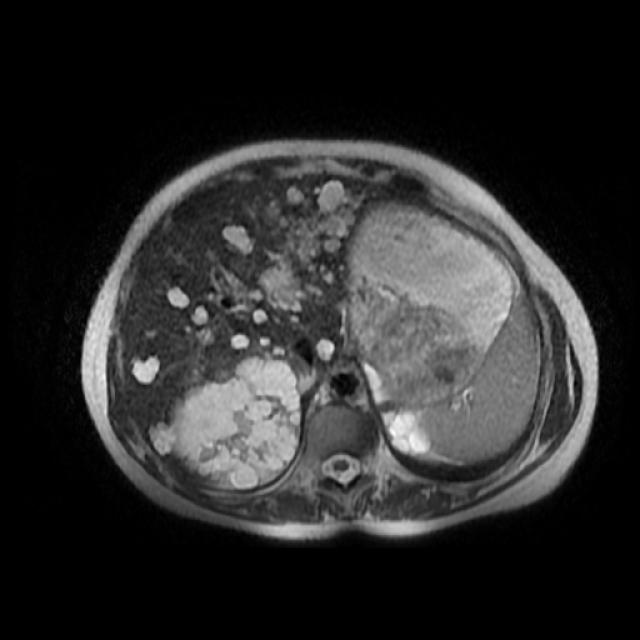sag: (165, 355, 302, 490)
sol: (377, 408, 441, 468)
